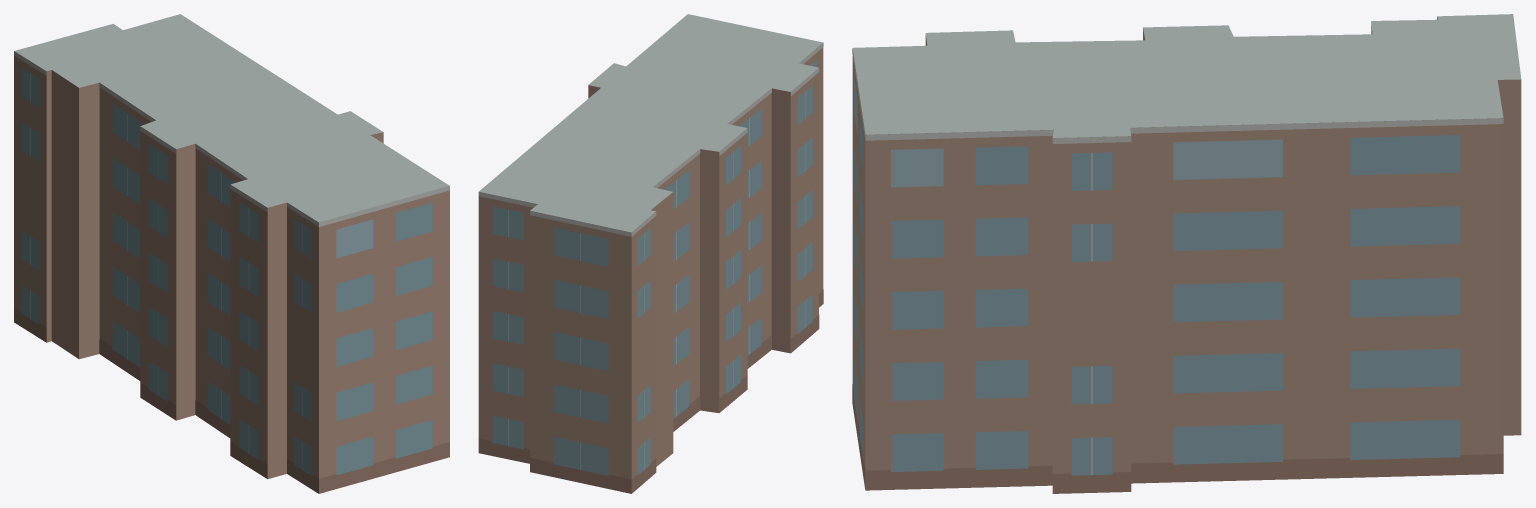
Rendered from survey-upis-32698385.glb.
The picture shows the model from 3 angles, left to right: view 1: azimuth 30°, elevation 25°; view 2: azimuth 150°, elevation 25°; view 3: azimuth 270°, elevation 25°; orthographic projection. The views are drawn at different scales.
Visible parts, largest first — view 1: survey-upis-32698385.tmp; view 2: survey-upis-32698385.tmp; view 3: survey-upis-32698385.tmp.
Boxes of the visible parts, x1,y1,x2,y2 form: survey-upis-32698385.tmp: (14,14,449,493); survey-upis-32698385.tmp: (478,14,823,493); survey-upis-32698385.tmp: (852,14,1521,493).
Size of the model in its own units: 10.78 by 14.4 by 24.54.
